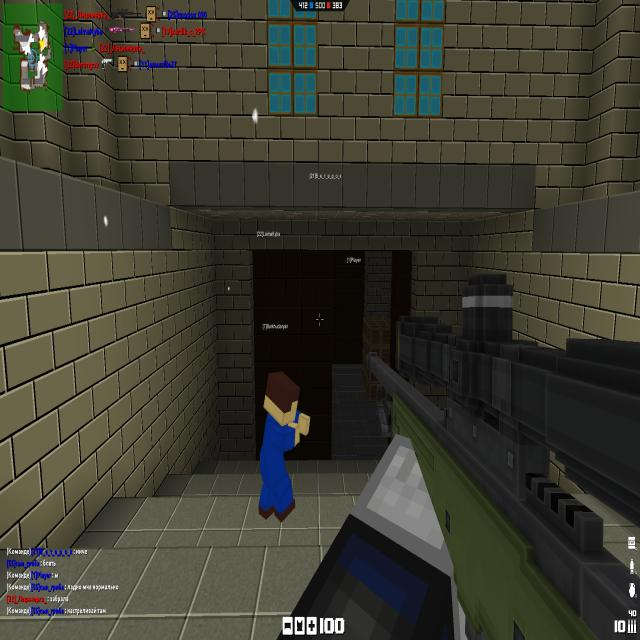player: (258, 372, 311, 522)
